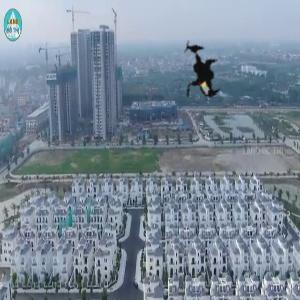drone: (152, 27, 244, 119)
